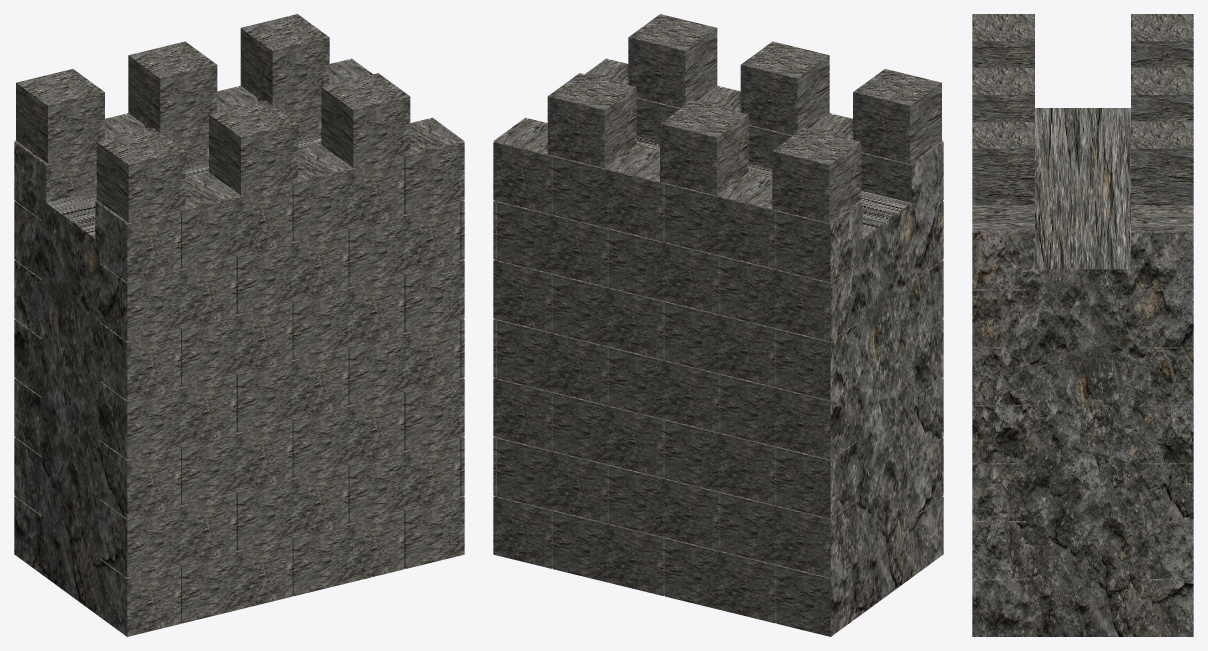
Rendered from mur.fbx.
3 views of the same model, side by side, from view 1: azimuth 30°, elevation 25°; view 2: azimuth 150°, elevation 25°; view 3: azimuth 270°, elevation 25° (orthographic).
Parts seen in each view (by area): view 1: mur; view 2: mur; view 3: mur.
Part boxes in pixels (bbox=[...]): mur: bbox=[14, 14, 464, 636]; mur: bbox=[493, 14, 943, 636]; mur: bbox=[972, 14, 1193, 636].
Size of the model in its own units: 240 by 320 by 139.
1 material, 1 textured.
